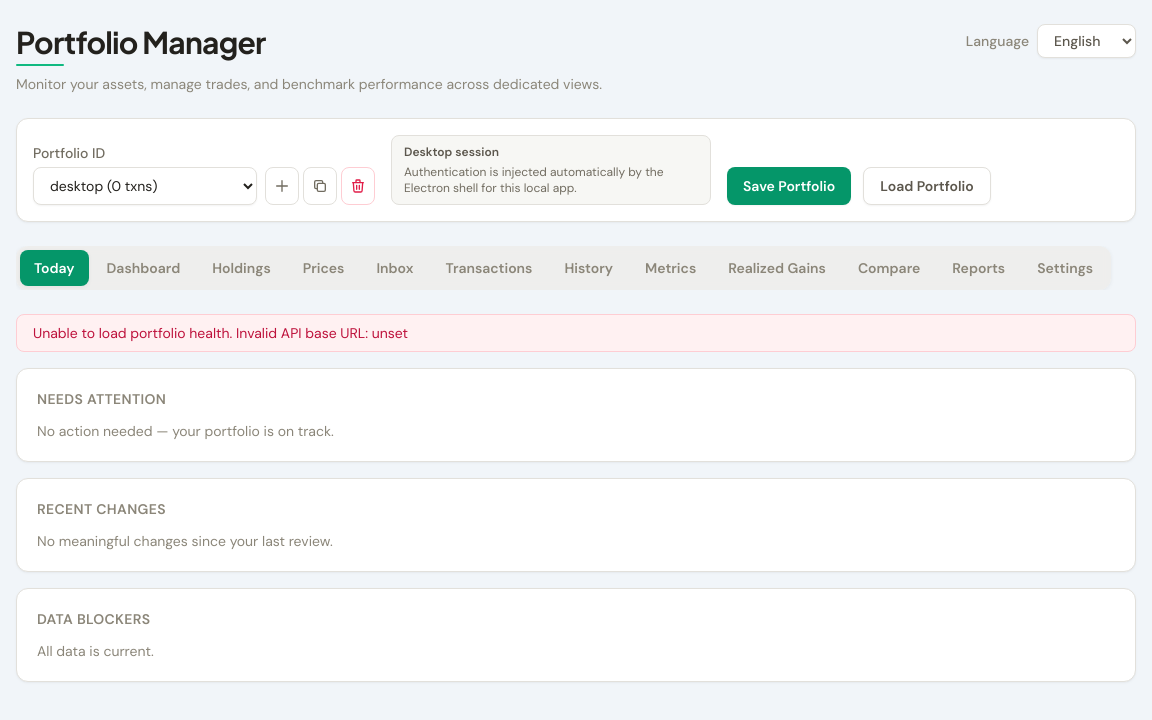
Test case: App desktop bootstrap › bootstraps the active desktop portfolio from runtime config
Expected: the dropdown labelled "Portfolio ID" shows "desktop (0 txns)", [33,167,257,205]
Step 1. Click the tab "Holdings" → (242, 268), box [198,250,285,286]
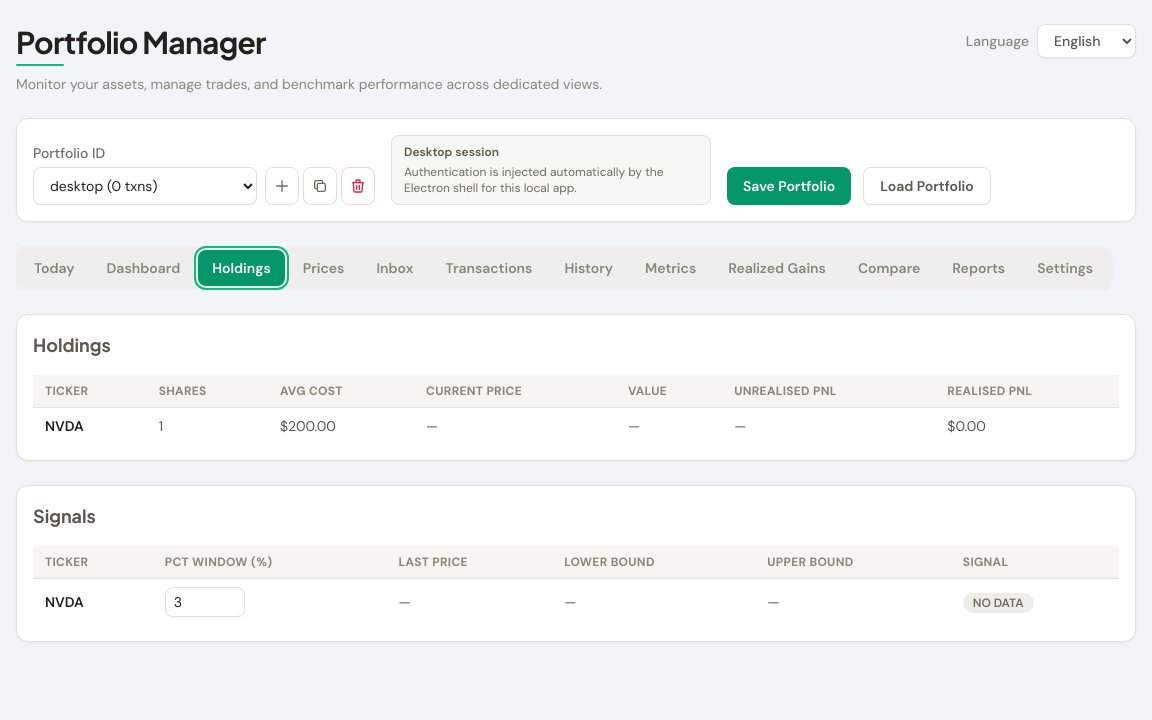
Result: the text "NVDA" in the row of "$200.00" is shown at [45,417,84,435]
